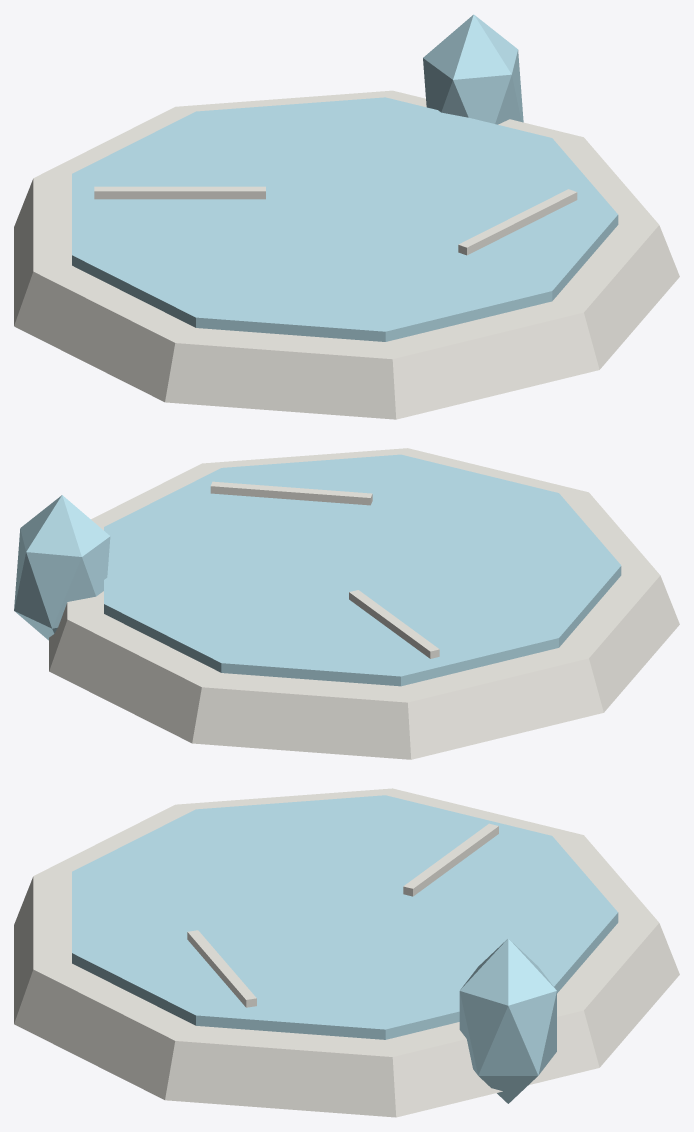
The model's file is ice-patch-lod1.glb.
3 views of the same model, one above another, from view 1: azimuth 30°, elevation 25°; view 2: azimuth 150°, elevation 25°; view 3: azimuth 270°, elevation 25° (orthographic). The views are drawn at different scales.
Visible parts, largest first — view 1: ice-patch; view 2: ice-patch; view 3: ice-patch.
Part boxes in pixels (x1,y1,x2,y2): ice-patch: (14, 14, 679, 419); ice-patch: (14, 448, 679, 759); ice-patch: (14, 788, 679, 1117).
Size of the model in its own units: 1.18 by 0.32 by 1.16.
